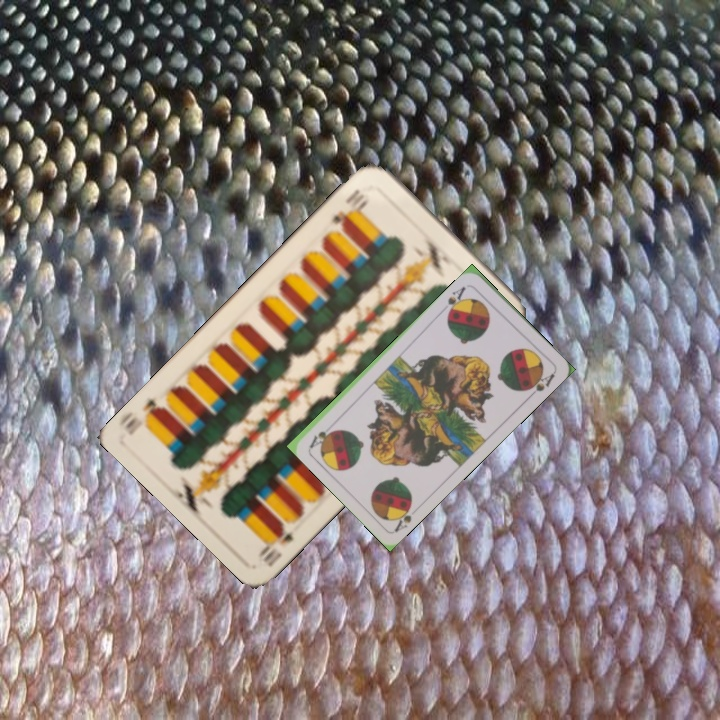E10: (254, 520, 296, 570), (327, 184, 369, 231)
SA: (438, 282, 469, 318), (388, 497, 416, 535)
